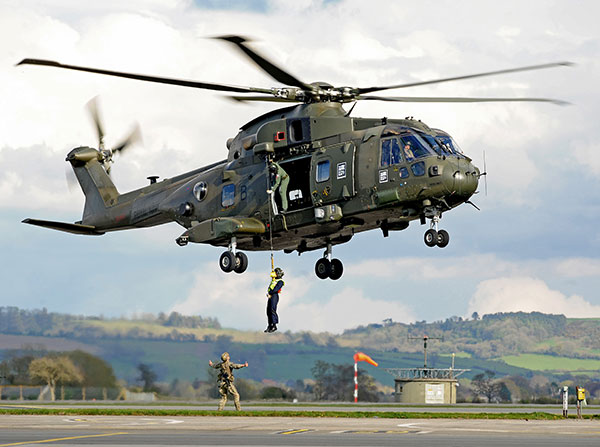Merlin: (13, 41, 494, 285)
